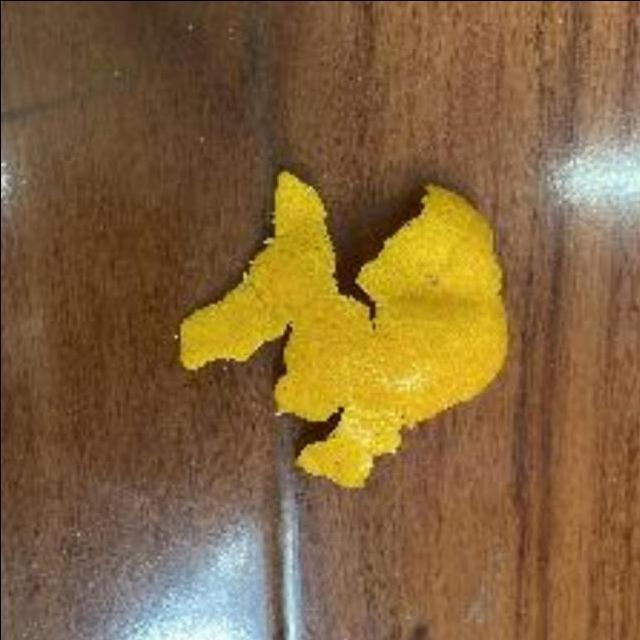orange peel: (167, 166, 511, 488)
